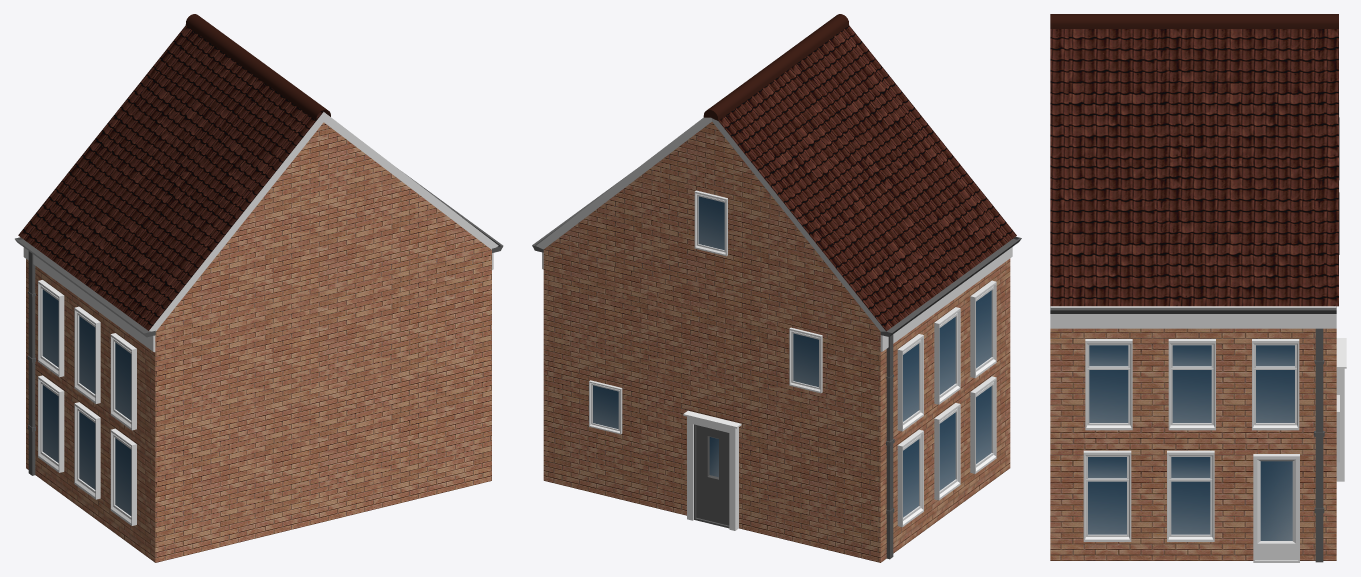
Rendered from It_Bûthús_26.fbx.
The picture shows the model from 3 angles, left to right: view 1: azimuth 30°, elevation 25°; view 2: azimuth 150°, elevation 25°; view 3: azimuth 270°, elevation 25°; orthographic projection. The views are drawn at different scales.
Visible parts, largest first — view 1: It_Bûthús_26; view 2: It_Bûthús_26; view 3: It_Bûthús_26.
Part boxes in pixels (x1,y1,x2,y2): It_Bûthús_26: (15,14,503,562); It_Bûthús_26: (532,14,1021,562); It_Bûthús_26: (1050,14,1346,562).
Size of the model in its own units: 9.29 by 10.18 by 6.01.
